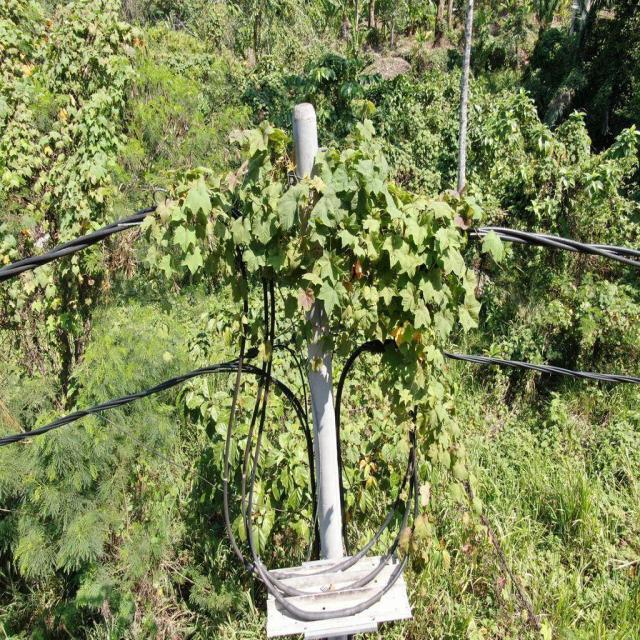critical vegetation: (162, 111, 464, 482)
